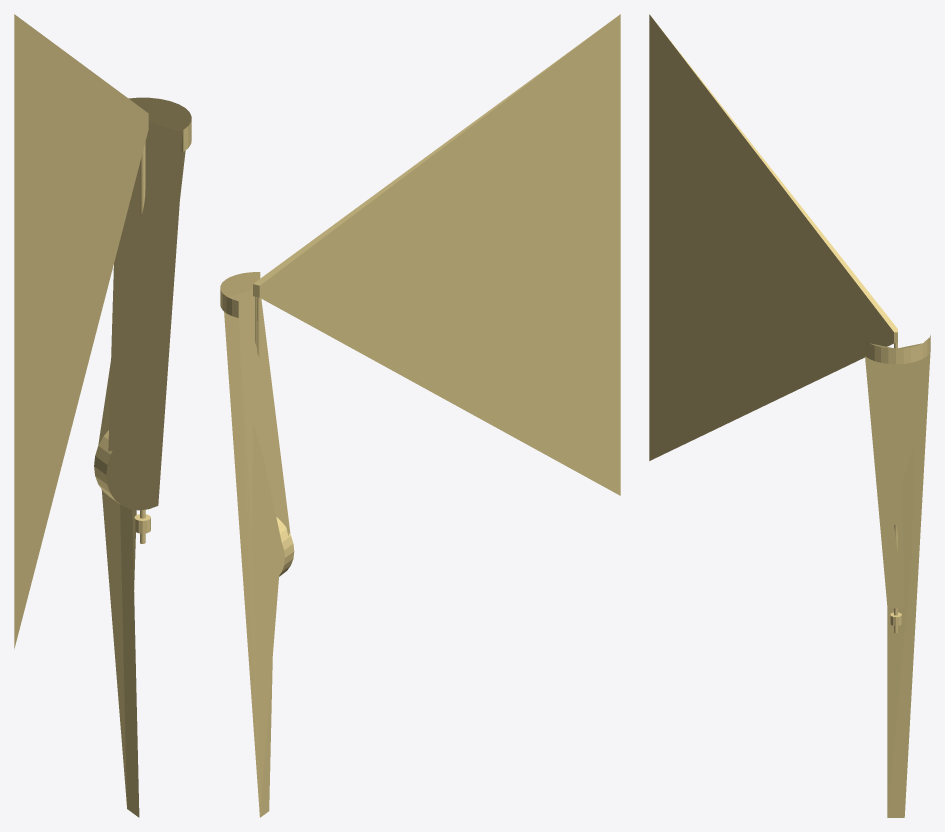
The model's file is SM_Prop_ClockPendulum_01.glb.
3 views of the same model, side by side, from view 1: azimuth 30°, elevation 25°; view 2: azimuth 150°, elevation 25°; view 3: azimuth 270°, elevation 25° (orthographic). The views are drawn at different scales.
Parts seen in each view (by area): view 1: SM_Prop_ClockPendulum_01; view 2: SM_Prop_ClockPendulum_01; view 3: SM_Prop_ClockPendulum_01.
Boxes of the visible parts, bbox=[...] form: SM_Prop_ClockPendulum_01: bbox=[14, 14, 191, 817]; SM_Prop_ClockPendulum_01: bbox=[220, 14, 620, 817]; SM_Prop_ClockPendulum_01: bbox=[649, 14, 930, 817].
Bounding box in the file's own units: 0.57 × 1.57 × 0.57.
